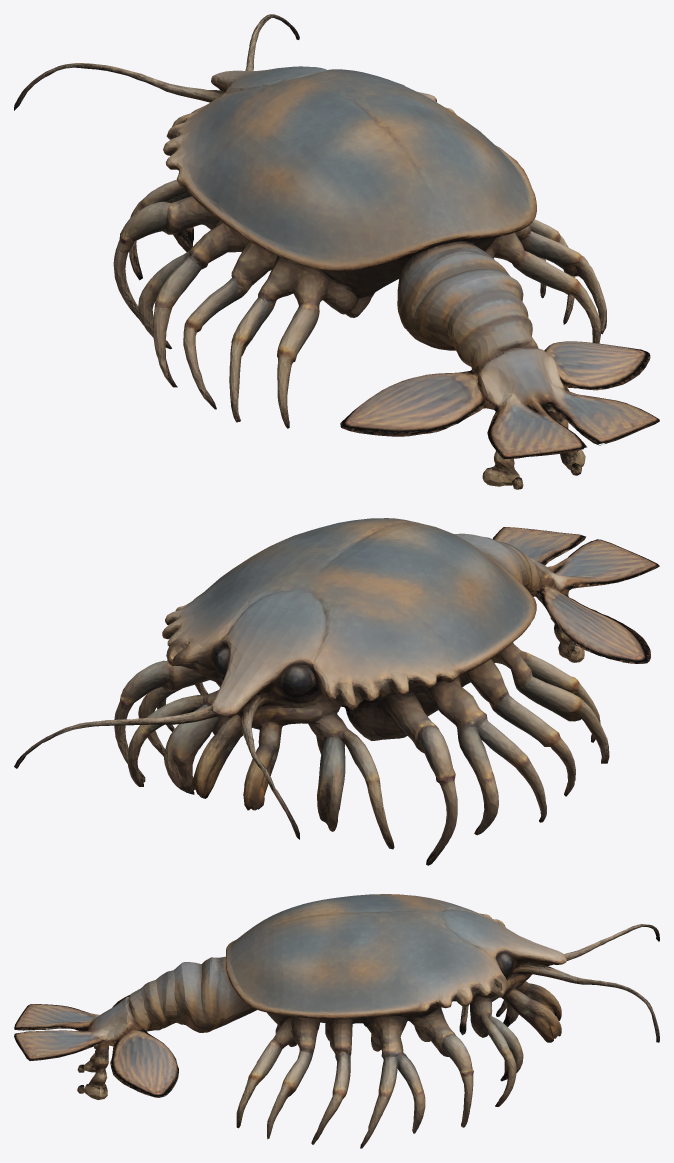
3 renders of one model, top to bottom at view 1: azimuth 30°, elevation 25°; view 2: azimuth 150°, elevation 25°; view 3: azimuth 270°, elevation 25°, orthographic. The views are drawn at different scales.
Parts seen in each view (by area): view 1: world; view 2: world; view 3: world.
Boxes of the visible parts, x1,y1,x2,y2 form: world: [14, 14, 659, 489]; world: [14, 518, 659, 865]; world: [14, 894, 659, 1148].
Bounding box in the file's own units: 0.5144 × 0.3012 × 0.9995.
1 material, 1 textured.
